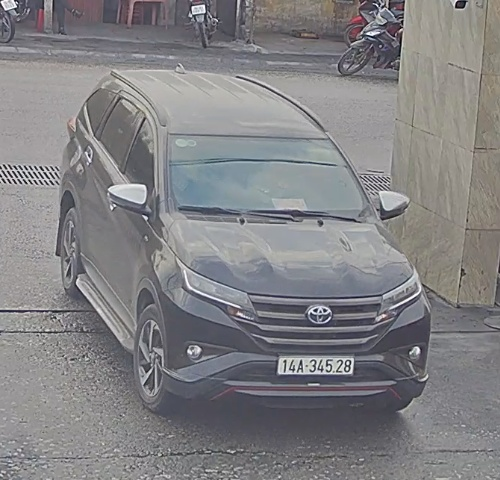vehicle plate: (272, 350, 365, 383)
